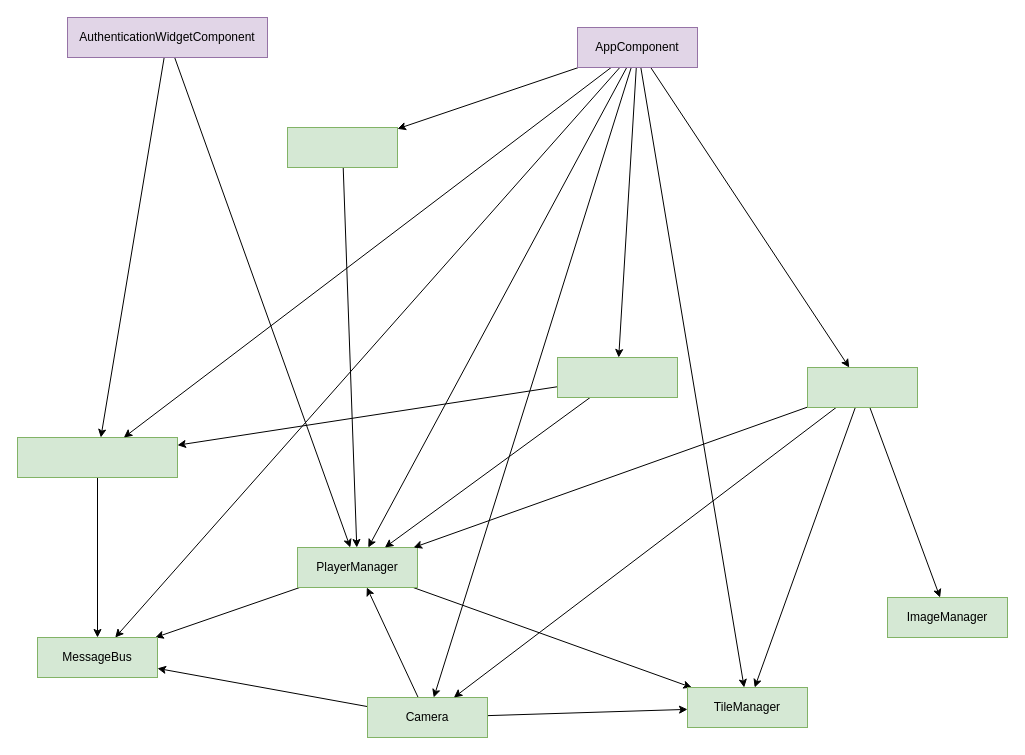
This 1025x755 diagram has some shape labels left out. The shapes that lost their labels are listed below. From the top down, each one's box as (x1, y1, x2, y2) in pixels, then its label:
(286, 126, 398, 168): WanderService
(556, 356, 678, 398): InputManager
(806, 366, 918, 408): Renderer
(16, 436, 178, 478): CommunicationService
